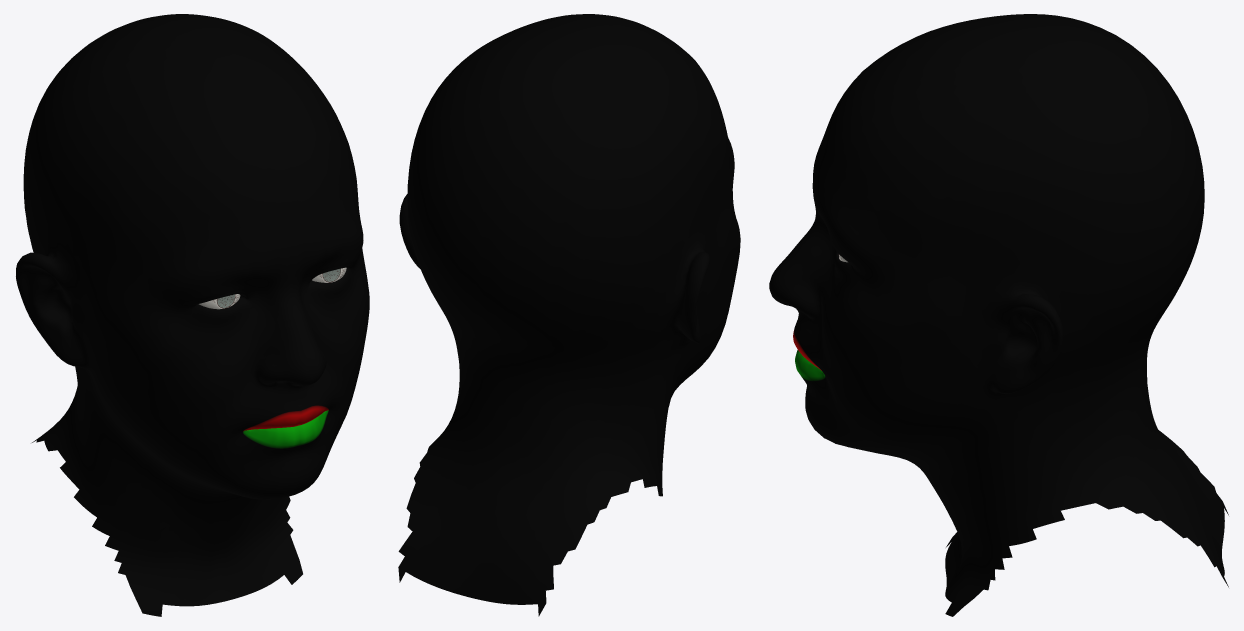
Rendered from gnm-head.glb.
3 views of the same model, side by side, from view 1: azimuth 30°, elevation 25°; view 2: azimuth 150°, elevation 25°; view 3: azimuth 270°, elevation 25° (orthographic). The views are drawn at different scales.
Visible parts, largest first — view 1: GNM_Population_Mean_Head; view 2: GNM_Population_Mean_Head; view 3: GNM_Population_Mean_Head.
Part boxes in pixels (x1,y1,x2,y2): GNM_Population_Mean_Head: (16, 14, 369, 616); GNM_Population_Mean_Head: (398, 14, 740, 616); GNM_Population_Mean_Head: (769, 14, 1228, 616).
Bounding box in the file's own units: 0.1828 × 0.3018 × 0.2276.
